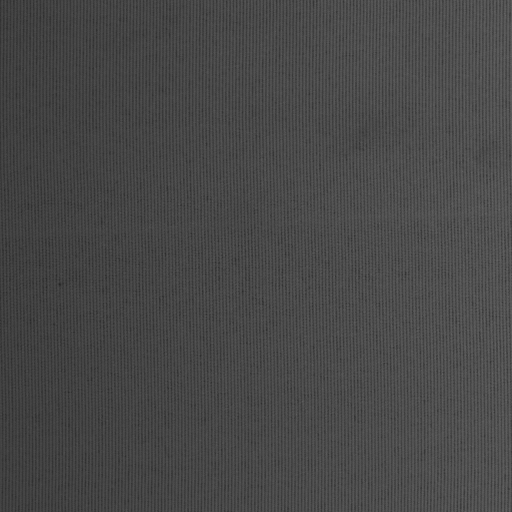defect: (2, 207, 512, 243)
